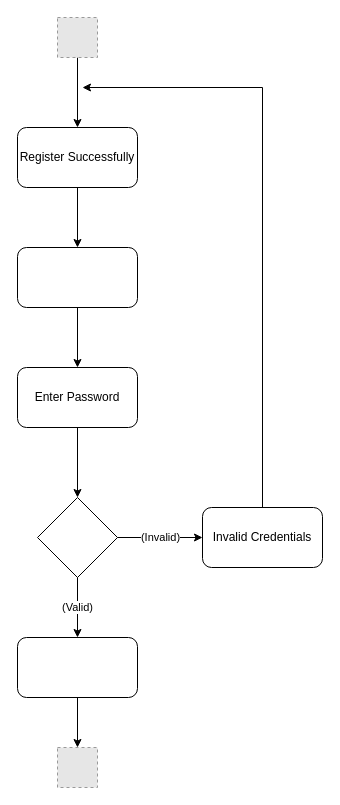
The diagram is 340 pixels wide and 805 high, and some of its shapes have lost their labels. Grey dashed boxes stand in for pictures. Each missing label, with the centre of its shape:
"Enter Email ID" belongs at point (77, 277).
"Login Successfull" belongs at point (77, 667).
